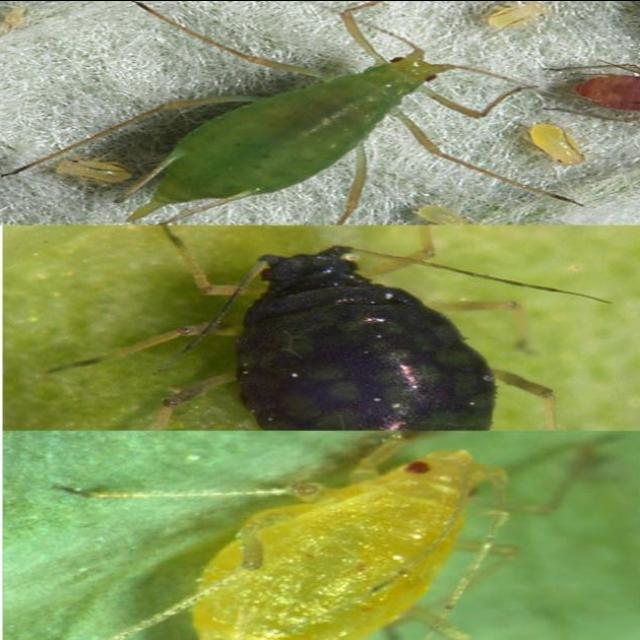Aphids: (9, 0, 593, 226), (37, 223, 623, 429), (39, 428, 550, 640), (514, 114, 596, 172), (466, 0, 572, 34), (56, 156, 126, 184)
